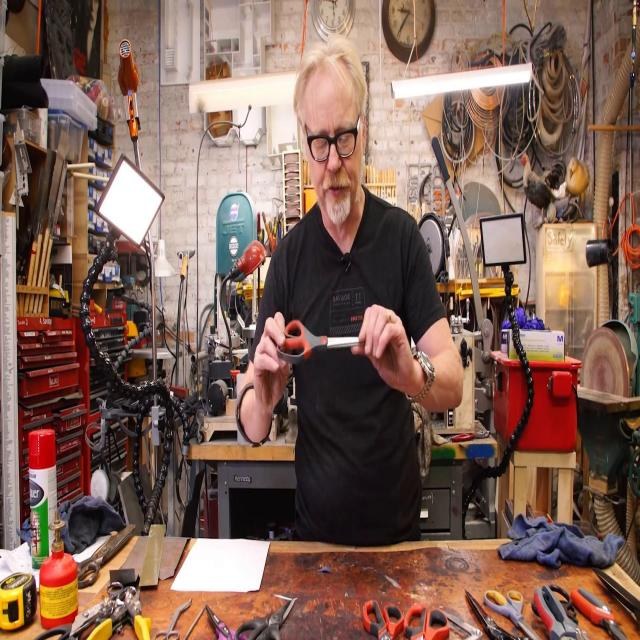scissor: (78, 525, 134, 590), (36, 597, 110, 640), (276, 321, 364, 357), (571, 587, 626, 640), (464, 587, 516, 640), (485, 590, 540, 640), (234, 599, 295, 640), (593, 568, 640, 616), (404, 604, 450, 640), (364, 600, 404, 640), (206, 604, 245, 640)
